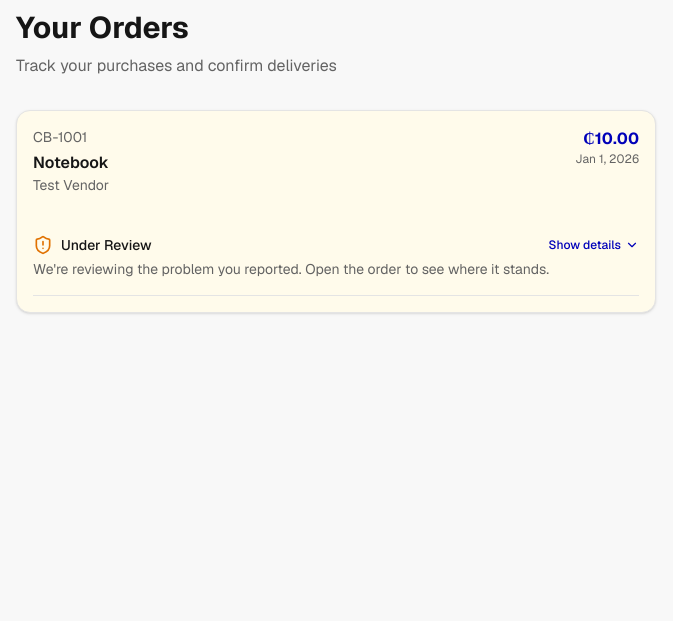
Scenario: OrdersPage disputed order › shows the reported problem while it is under review
Click the heading "Notebook": [71, 162] box [33,152,109,173]
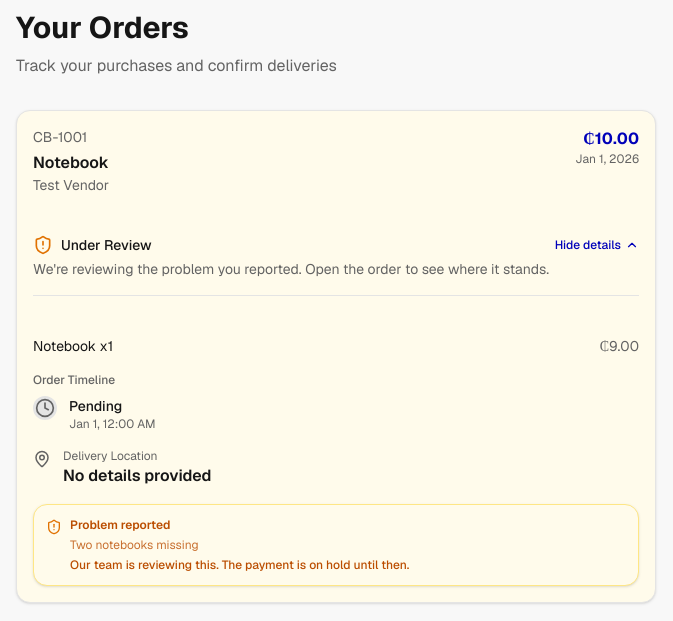
Expected: the text "Two notebooks missing" is shown, [70,537,199,553]
Expected: the text "payment is on hold until then" is shown, [70,557,409,573]
